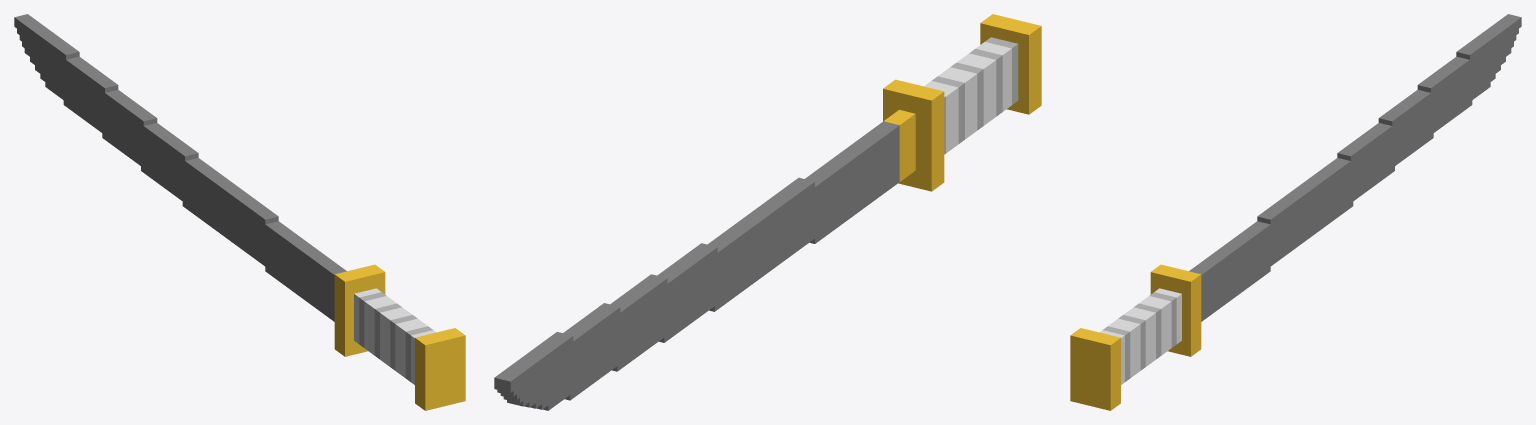
Rendered from Katana.obj.
The picture shows the model from 3 angles, left to right: view 1: azimuth 30°, elevation 25°; view 2: azimuth 150°, elevation 25°; view 3: azimuth 330°, elevation 25°; orthographic projection. The views are drawn at different scales.
Bounding box in the file's own units: 0.9 × 1.8 × 16.4.
